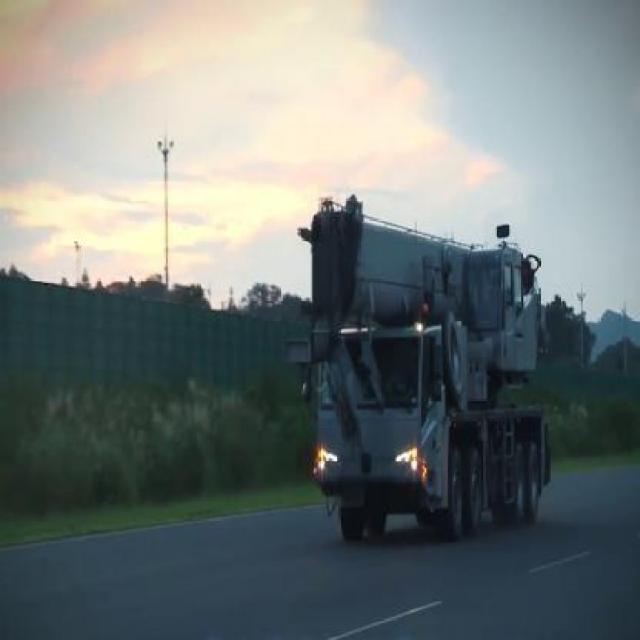Mobile Crane: (288, 206, 547, 537)
